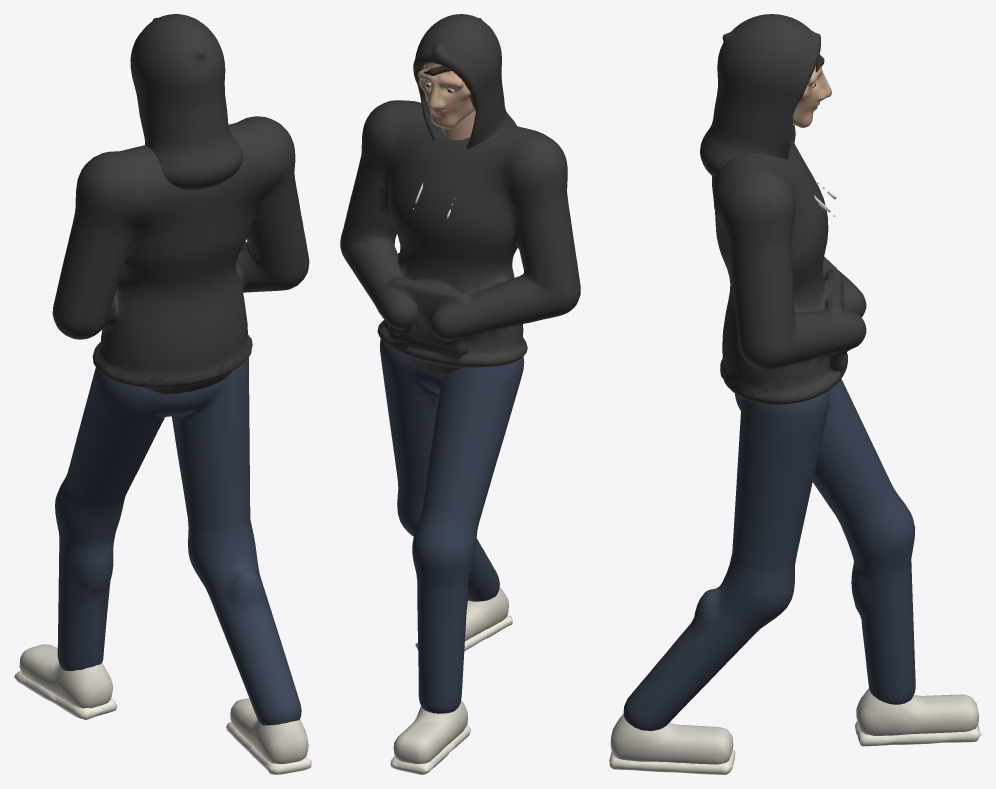
The model's file is hoodie_lot.glb.
3 views of the same model, side by side, from view 1: azimuth 30°, elevation 25°; view 2: azimuth 150°, elevation 25°; view 3: azimuth 270°, elevation 25° (orthographic). The views are drawn at different scales.
Visible parts, largest first — view 1: hoodie_lot_body, hoodie_lot_head; view 2: hoodie_lot_body, hoodie_lot_head; view 3: hoodie_lot_body, hoodie_lot_head.
Boxes of the visible parts, bbox=[...] form: hoodie_lot_body: bbox=[14, 116, 311, 774]; hoodie_lot_head: bbox=[130, 14, 243, 189]; hoodie_lot_body: bbox=[340, 100, 580, 774]; hoodie_lot_head: bbox=[413, 14, 516, 148]; hoodie_lot_body: bbox=[609, 124, 981, 774]; hoodie_lot_head: bbox=[700, 14, 831, 176].
Bounding box in the file's own units: 0.6008 × 1.66 × 0.7578.
